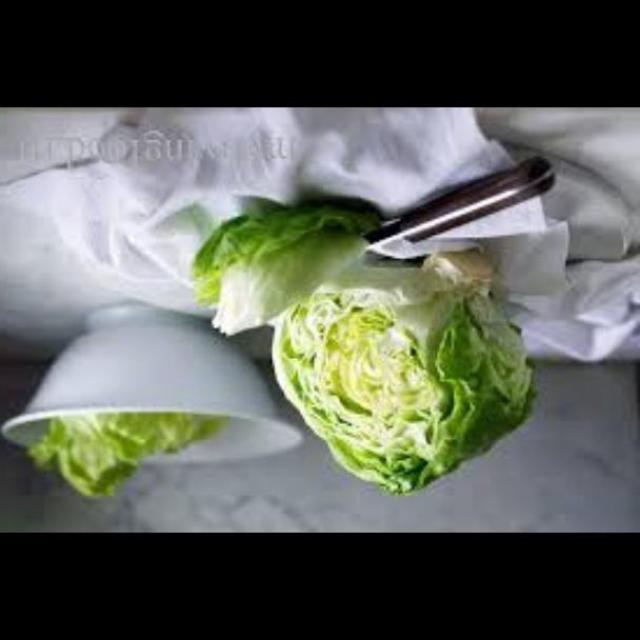salad: (265, 245, 543, 515), (186, 187, 370, 346), (33, 384, 224, 498)
